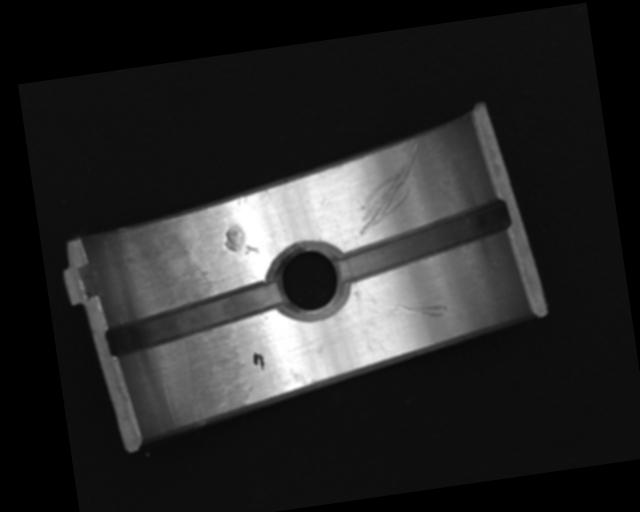blot: (251, 350, 265, 372)
bruise: (221, 221, 259, 258)
gap: (332, 200, 514, 283), (101, 282, 285, 358)
hole: (269, 240, 348, 324)
nick: (347, 144, 432, 236), (389, 298, 448, 324)
